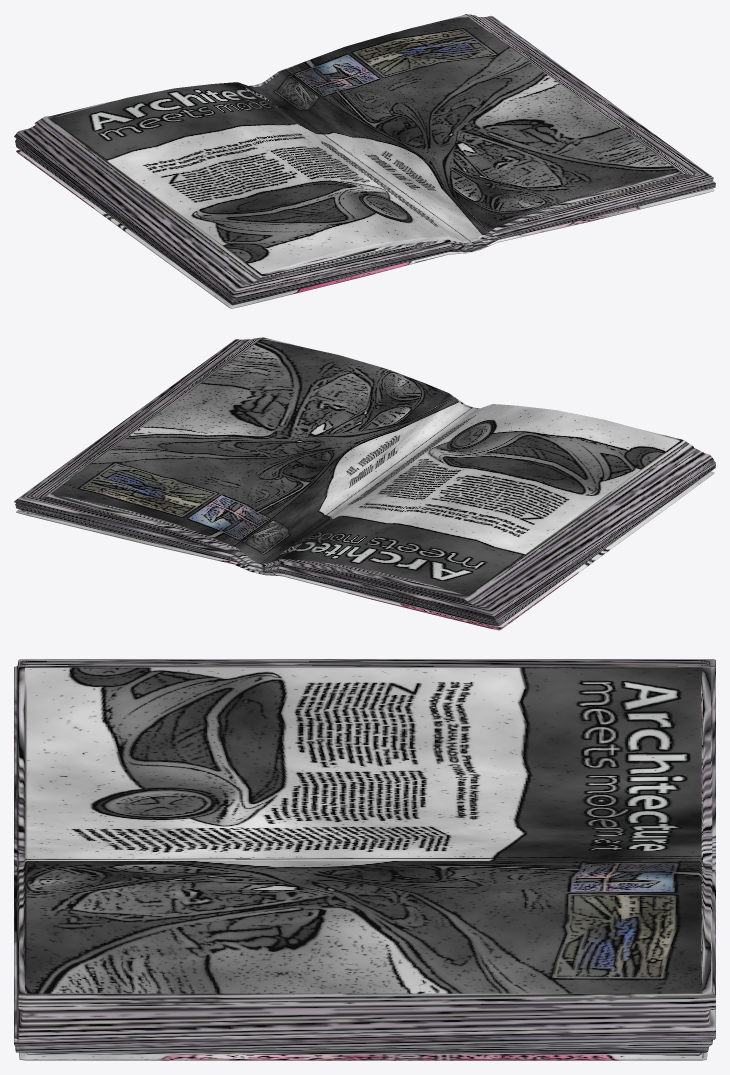
3 views of the same model, one above another, from view 1: azimuth 30°, elevation 25°; view 2: azimuth 150°, elevation 25°; view 3: azimuth 270°, elevation 25° (orthographic). The views are drawn at different scales.
Visible parts, largest first — view 1: OpenMagazine; view 2: OpenMagazine; view 3: OpenMagazine.
Boxes of the visible parts, x1,y1,x2,y2 form: OpenMagazine: [14, 14, 715, 308]; OpenMagazine: [14, 337, 715, 630]; OpenMagazine: [14, 659, 715, 1060].
Size of the model in its own units: 28.71 by 1.74 by 22.54.
1 material, 1 textured.
